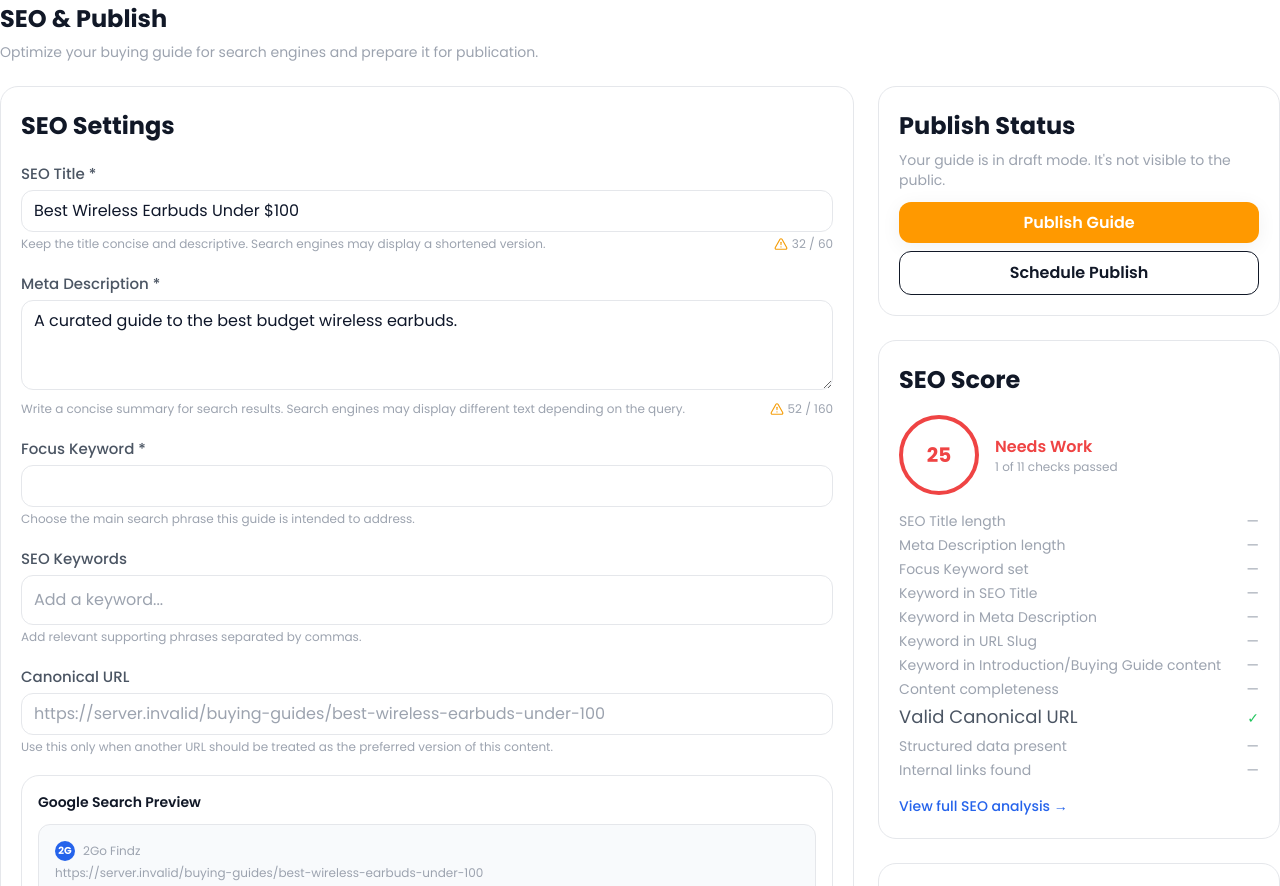
Test: BuyingGuideSeoPublishStep › opens the schedule dialog from the Publish Status card
The width and height of the screenshot is (1280, 886).
Click the button "Schedule Publish". click: [1079, 273]
box: [899,251,1259,295]
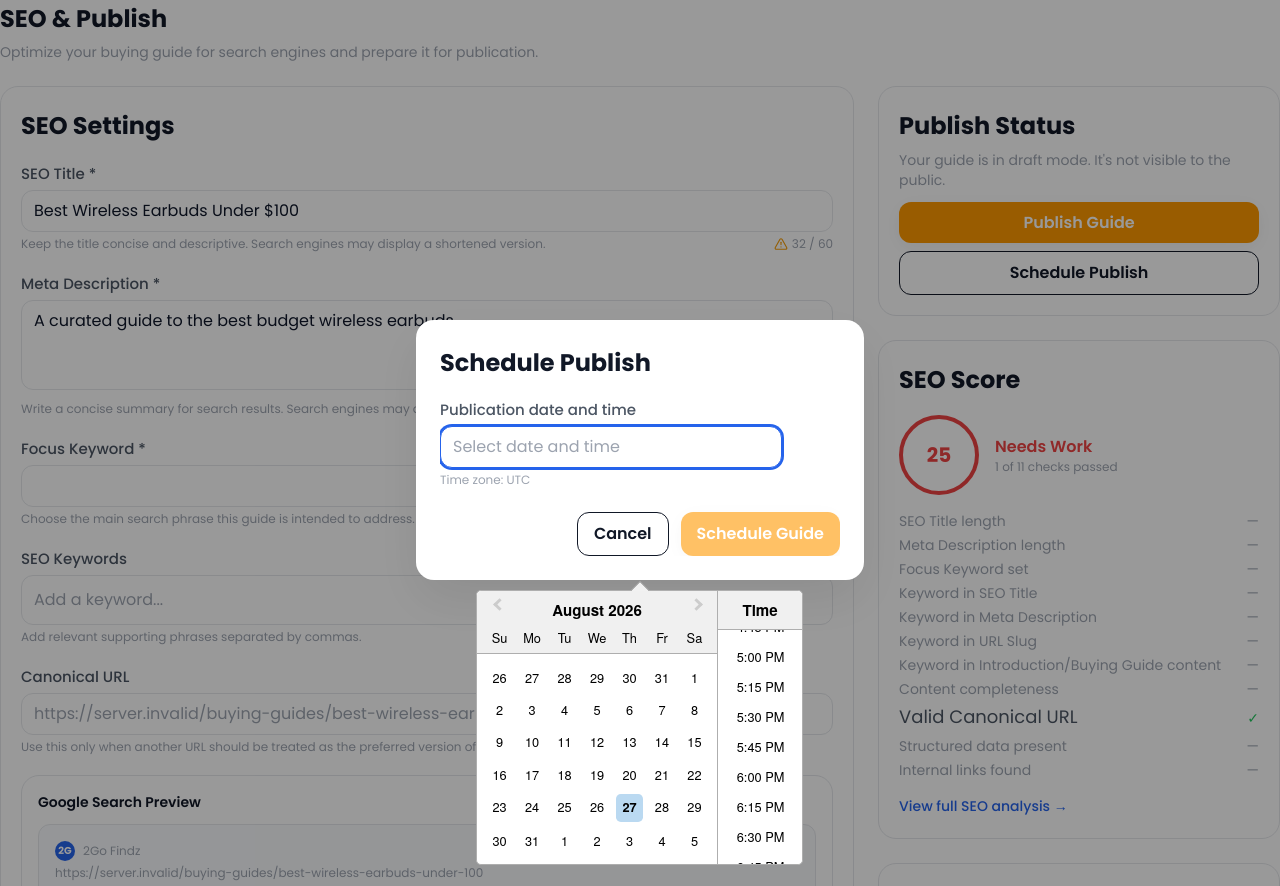
expect the heading "Schedule Publish" is shown: met, box [440,346,651,379]
